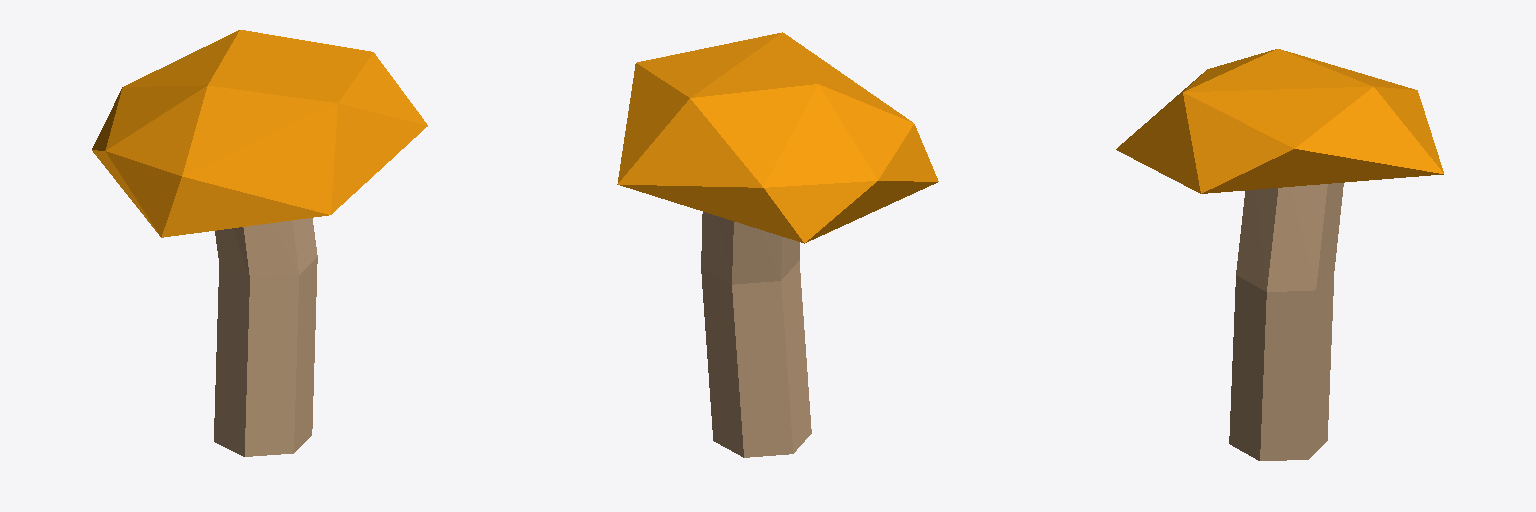
The model's file is small_yellow_mushroom.obj.
3 views of the same model, side by side, from view 1: azimuth 30°, elevation 25°; view 2: azimuth 150°, elevation 25°; view 3: azimuth 270°, elevation 25° (orthographic).
Visible parts, largest first — view 1: Mushroom1; view 2: Mushroom1; view 3: Mushroom1.
Boxes of the visible parts, <box> form: Mushroom1: <box>92,30,427,456</box>; Mushroom1: <box>617,32,938,457</box>; Mushroom1: <box>1116,49,1443,460</box>.
Bounding box in the file's own units: 0.1849 × 0.2454 × 0.1983.